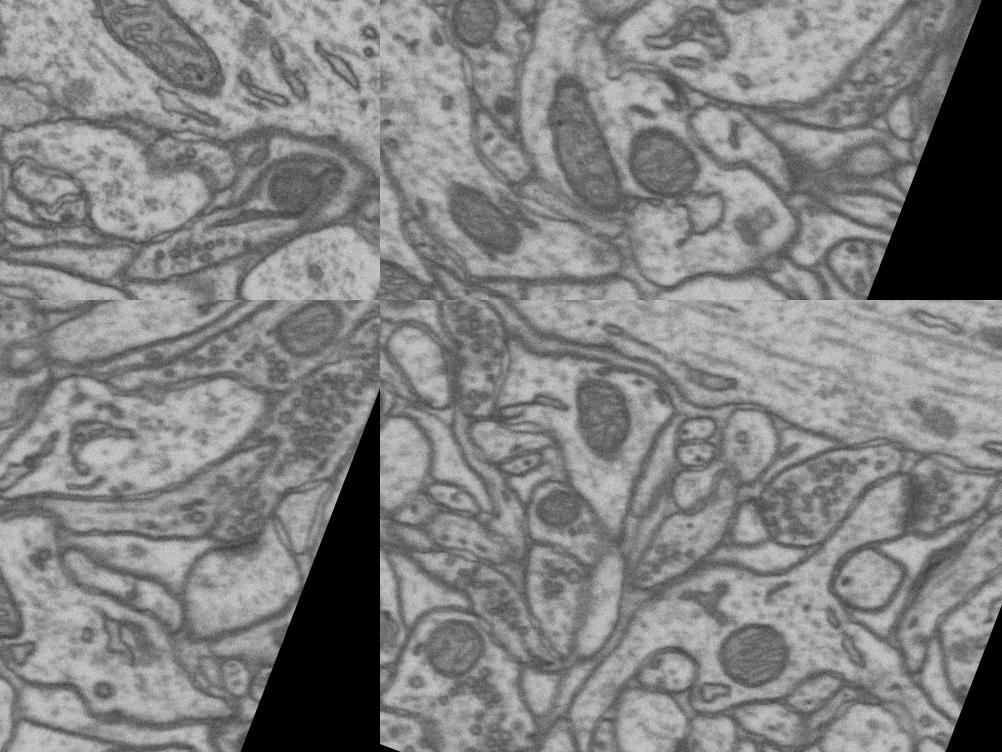mitochondria: (27, 0, 265, 113), (508, 61, 660, 223), (541, 356, 665, 478), (690, 596, 812, 710), (606, 108, 719, 218), (431, 175, 549, 276), (408, 602, 505, 704), (243, 138, 342, 236), (256, 300, 365, 383), (520, 464, 598, 551), (0, 527, 50, 656), (429, 0, 517, 62), (380, 241, 458, 300), (892, 71, 949, 146), (380, 580, 411, 678), (380, 363, 403, 451), (216, 706, 254, 752), (380, 300, 432, 324)
